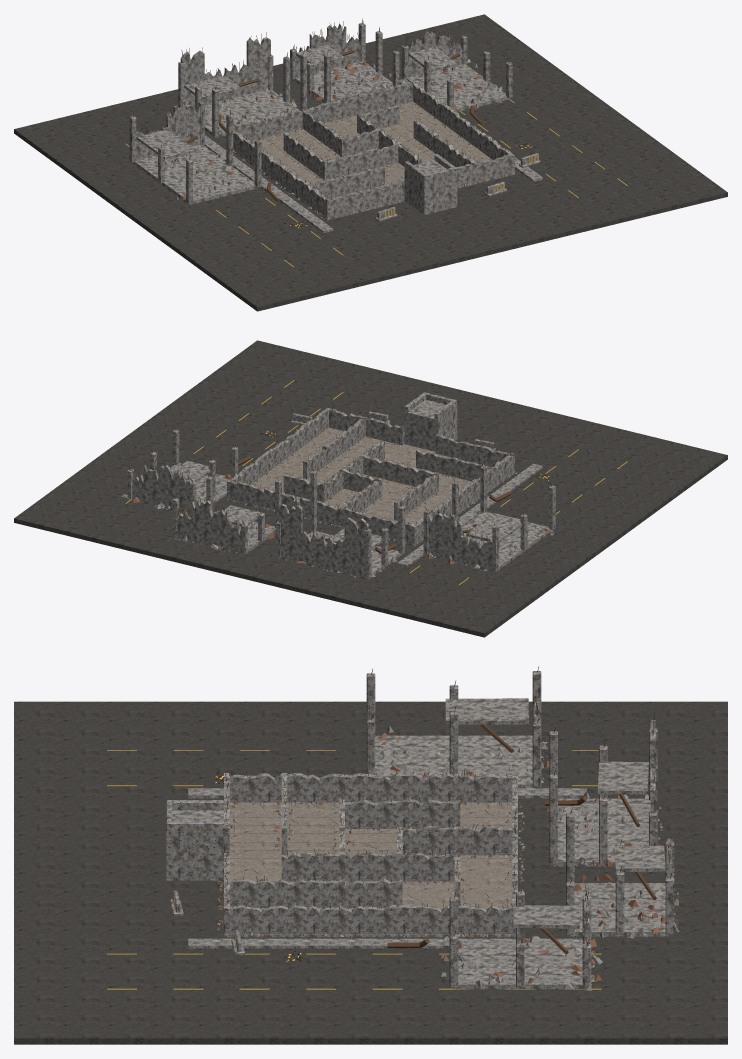
Rendered from MazeAftermath_Architecture.glb.
3 renders of one model, top to bottom at view 1: azimuth 30°, elevation 25°; view 2: azimuth 150°, elevation 25°; view 3: azimuth 270°, elevation 25°, orthographic. The views are drawn at different scales.
Visible parts, largest first — view 1: Aftermath_Surround, Aftermath_Backdrop, Aftermath_Walls, Aftermath_Paving, Aftermath_Entrance, Aftermath_Rubble, Aftermath_Steel, Aftermath_StreetDebris, Aftermath_Foundation; view 2: Aftermath_Surround, Aftermath_Backdrop, Aftermath_Walls, Aftermath_Paving, Aftermath_Entrance, Aftermath_Rubble, Aftermath_Steel, Aftermath_StreetDebris; view 3: Aftermath_Surround, Aftermath_Backdrop, Aftermath_Walls, Aftermath_Paving, Aftermath_Rubble, Aftermath_Entrance, Aftermath_Steel, Aftermath_Foundation.
Part boxes in pixels (x1=…): Aftermath_Surround: x1=14, y1=14, x2=727, y2=311; Aftermath_Backdrop: x1=129, y1=23, x2=512, y2=204; Aftermath_Walls: x1=233, y1=82, x2=514, y2=218; Aftermath_Paving: x1=252, y1=101, x2=493, y2=199; Aftermath_Entrance: x1=404, y1=154, x2=457, y2=214; Aftermath_Rubble: x1=143, y1=59, x2=511, y2=217; Aftermath_Steel: x1=133, y1=18, x2=510, y2=202; Aftermath_StreetDebris: x1=375, y1=153, x2=540, y2=221; Aftermath_Foundation: x1=234, y1=150, x2=514, y2=220; Aftermath_Surround: x1=14, y1=340, x2=727, y2=637; Aftermath_Backdrop: x1=127, y1=429, x2=555, y2=579; Aftermath_Walls: x1=227, y1=408, x2=514, y2=544; Aftermath_Paving: x1=251, y1=427, x2=489, y2=524; Aftermath_Entrance: x1=404, y1=392, x2=457, y2=451; Aftermath_Rubble: x1=121, y1=429, x2=553, y2=577; Aftermath_Steel: x1=128, y1=408, x2=552, y2=553; Aftermath_StreetDebris: x1=291, y1=411, x2=495, y2=450; Aftermath_Surround: x1=14, y1=701, x2=727, y2=1044; Aftermath_Backdrop: x1=366, y1=671, x2=674, y2=989; Aftermath_Walls: x1=224, y1=773, x2=517, y2=934; Aftermath_Paving: x1=229, y1=802, x2=512, y2=909; Aftermath_Rubble: x1=217, y1=725, x2=679, y2=990; Aftermath_Entrance: x1=166, y1=800, x2=223, y2=880; Aftermath_Steel: x1=224, y1=666, x2=671, y2=954; Aftermath_Foundation: x1=224, y1=803, x2=515, y2=937.
Bounding box in the file's own units: 48 × 6.91 × 43.
Materials: 9 (3 with a texture image).
